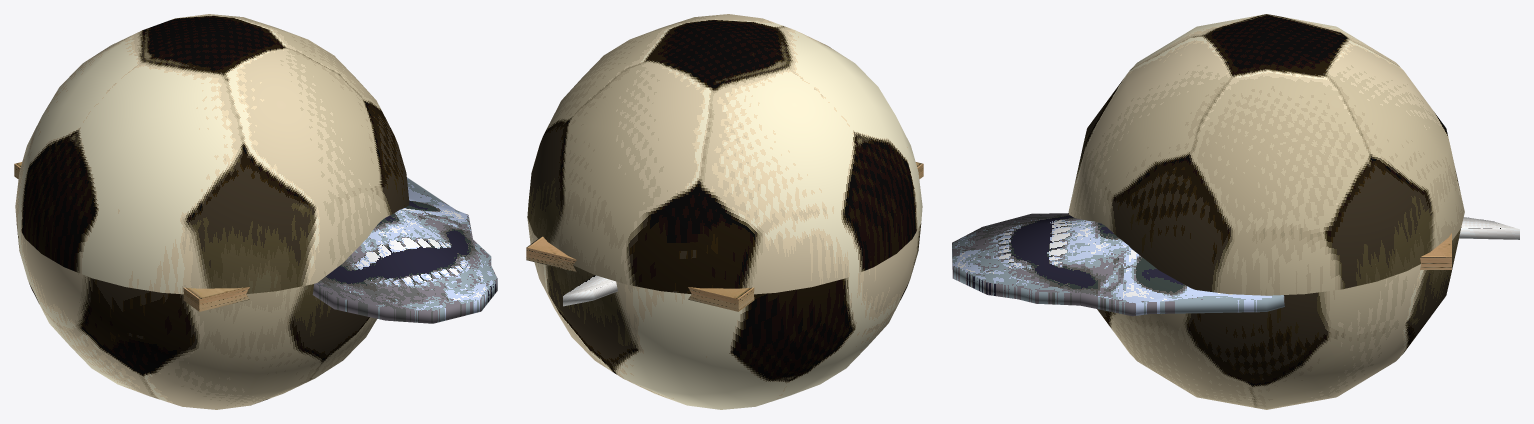
File: scream_jam_items.glb
3 renders of one model, left to right at view 1: azimuth 30°, elevation 25°; view 2: azimuth 150°, elevation 25°; view 3: azimuth 270°, elevation 25°, orthographic.
Visible parts, largest first — view 1: Sphere, mask, book; view 2: Sphere, book, knife; view 3: Sphere, mask, knife, book.
Boxes of the visible parts, x1=… form: Sphere: x1=15, y1=14, x2=409, y2=409; mask: x1=312, y1=177, x2=497, y2=323; book: x1=14, y1=162, x2=249, y2=311; Sphere: x1=527, y1=14, x2=922, y2=409; book: x1=526, y1=162, x2=923, y2=311; knife: x1=563, y1=275, x2=617, y2=306; Sphere: x1=1068, y1=14, x2=1464, y2=409; mask: x1=952, y1=213, x2=1284, y2=316; knife: x1=1459, y1=217, x2=1519, y2=239; book: x1=1420, y1=233, x2=1451, y2=269.
Size of the model in its own units: 0.7104 by 0.6763 by 0.9689.
Materials: 7 (6 with a texture image).
